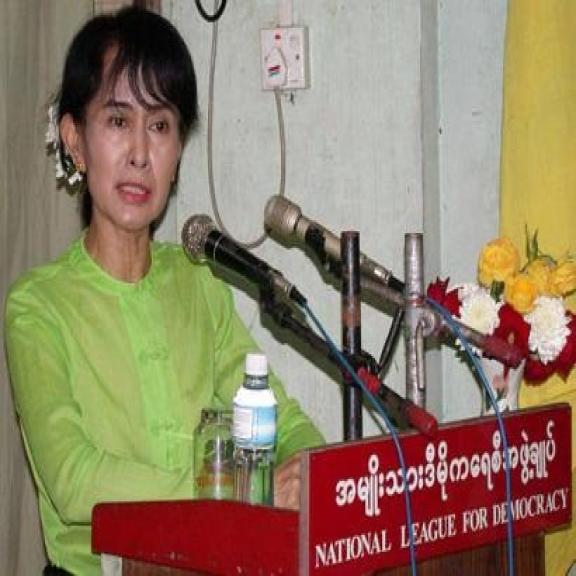face: (58, 57, 190, 237)
